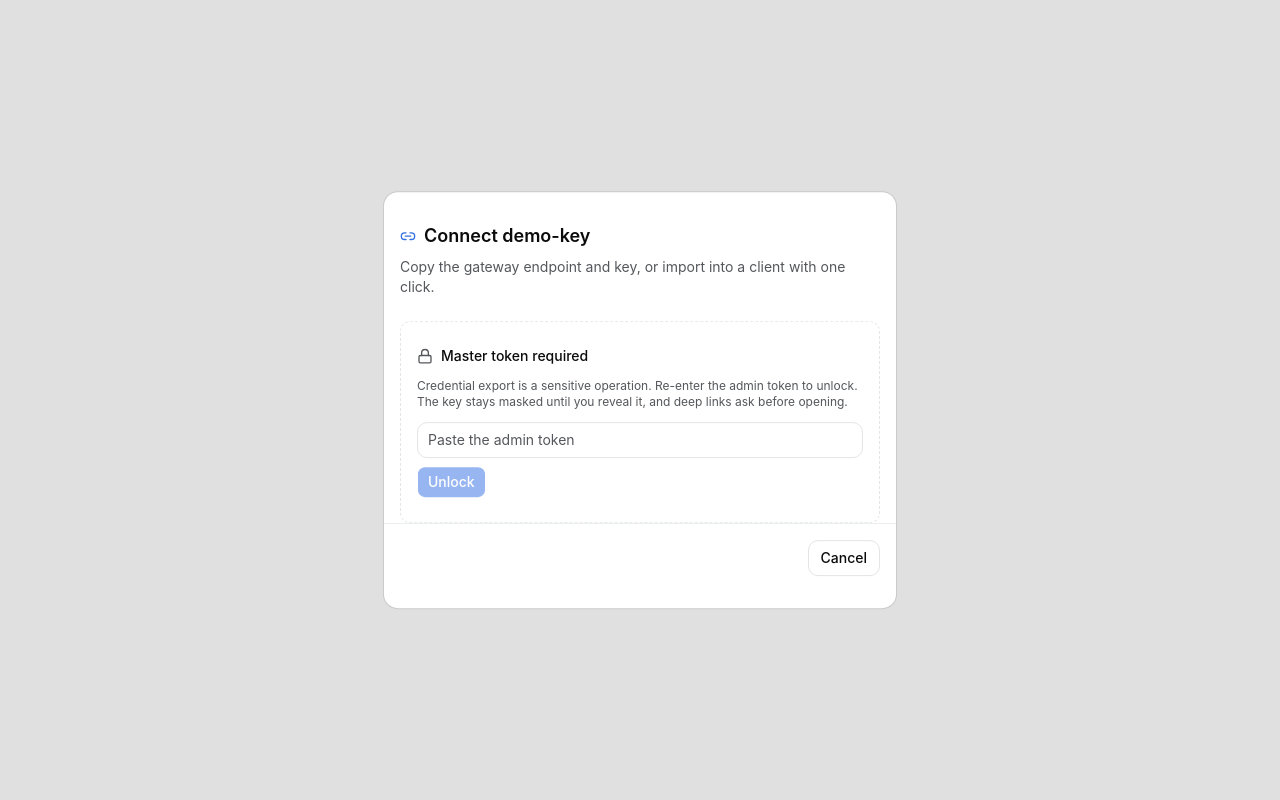
Test: CredentialExportDialog › announces a successful key copy through the button accessible name
Type "master-token" into the password field with placeholder "Paste the admin token" at (640, 440), box 417,422 -> 863,458
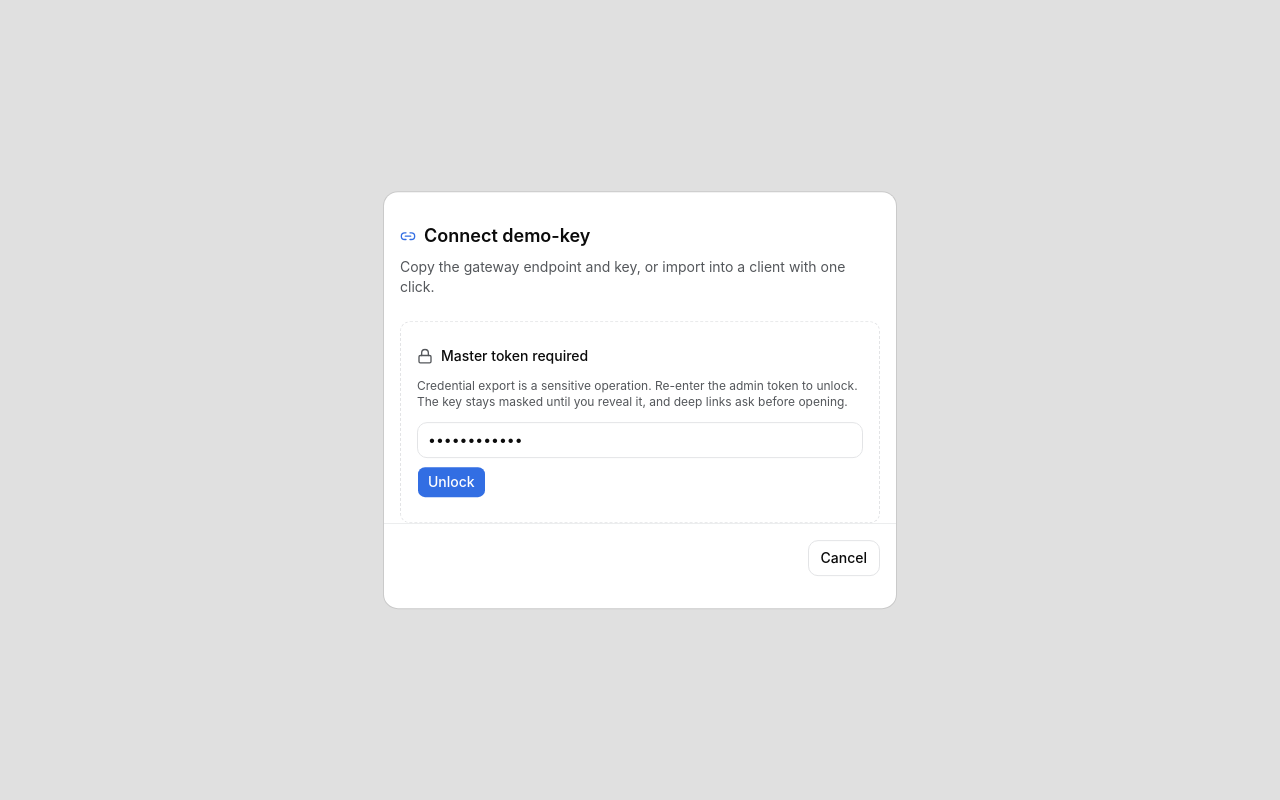
Click the button "Unlock" at (451, 482), box 417,466 -> 486,498
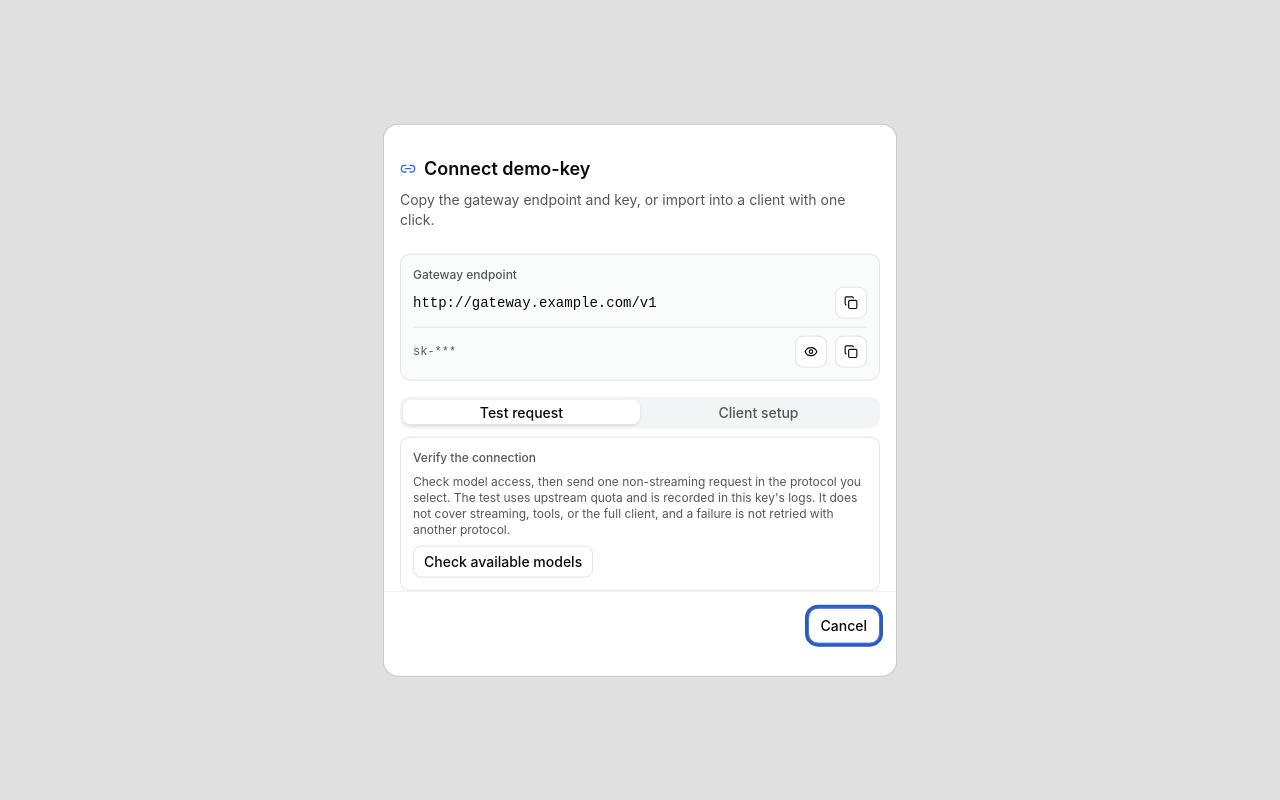
Click the button named "Copy API key" at (851, 351), box 835,335 -> 867,367
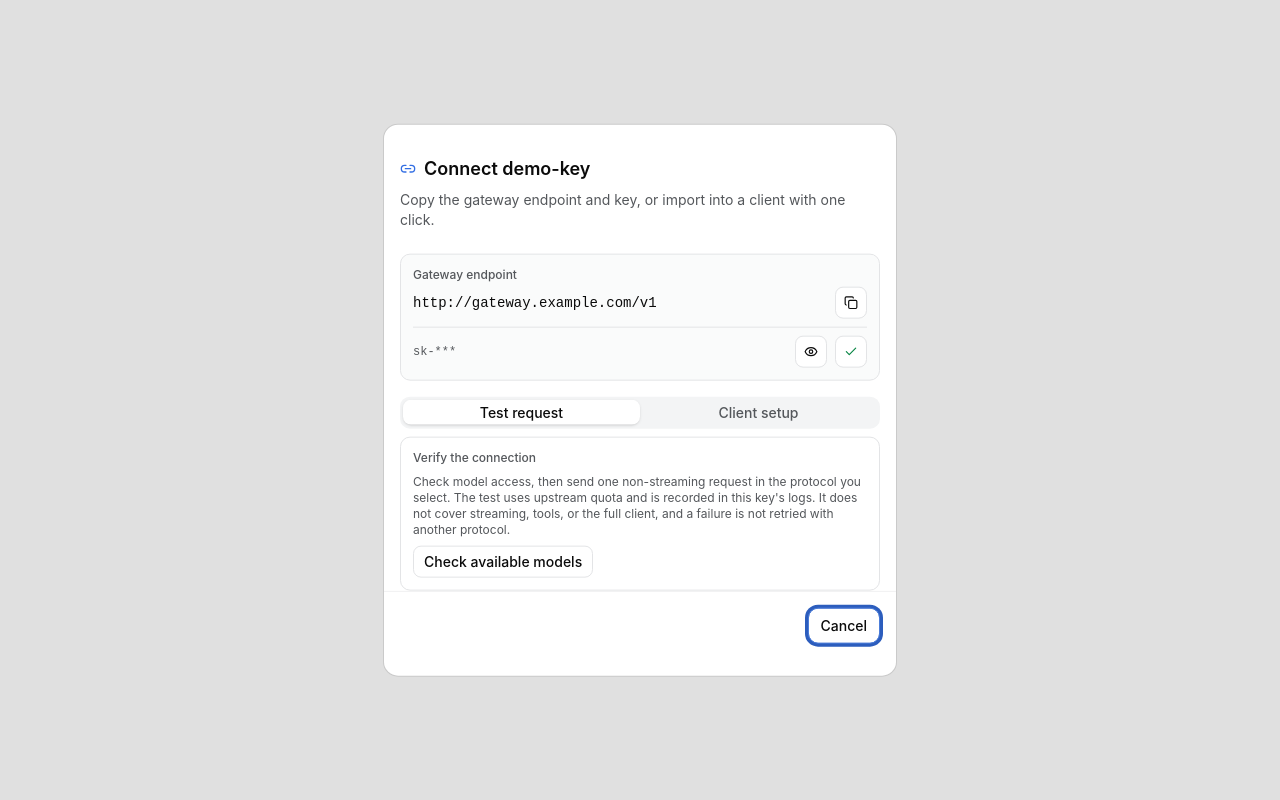
Expected: the button named "API key copied" is shown, 835,335 -> 867,367
